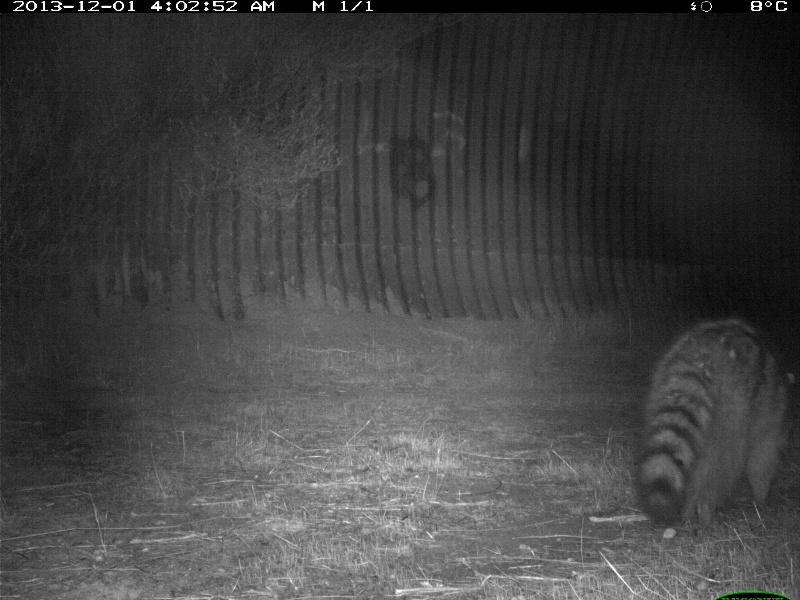raccoon: (631, 310, 798, 536)
